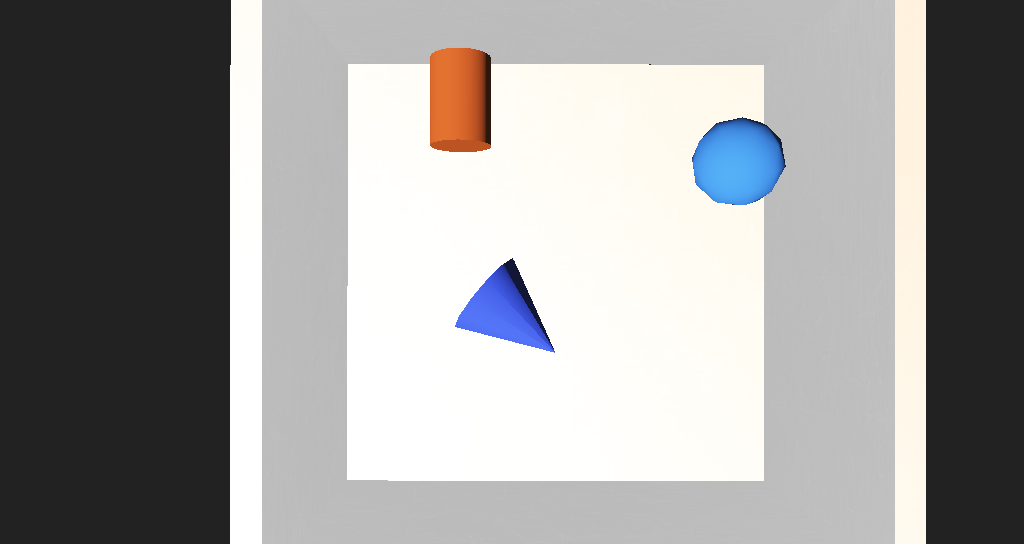cone: (414, 157, 461, 205)
cylinder: (421, 255, 536, 336)
sphere: (600, 193, 667, 236)
